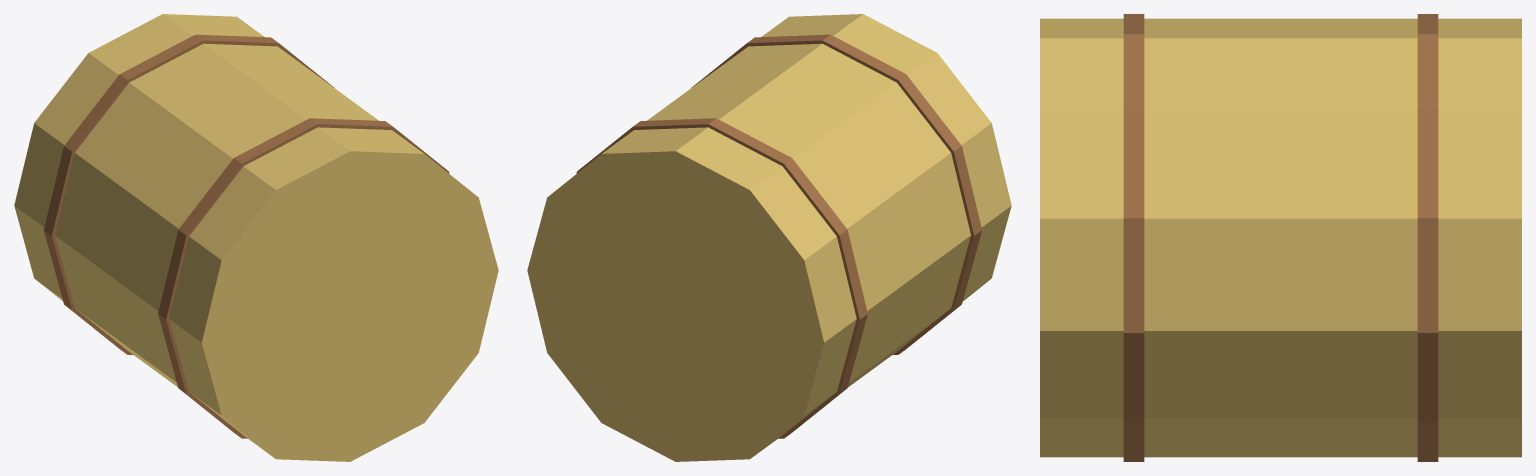
File: TR3_HayBale_Round.glb
3 renders of one model, left to right at view 1: azimuth 30°, elevation 25°; view 2: azimuth 150°, elevation 25°; view 3: azimuth 270°, elevation 25°, orthographic. The views are drawn at different scales.
Visible parts, largest first — view 1: TR3_HayBale_Round; view 2: TR3_HayBale_Round; view 3: TR3_HayBale_Round.
Part boxes in pixels (x1,y1,x2,y2): TR3_HayBale_Round: (14, 14, 498, 461); TR3_HayBale_Round: (527, 14, 1011, 461); TR3_HayBale_Round: (1040, 14, 1521, 461).
Size of the model in its own units: 0.98 by 0.98 by 1.05.
